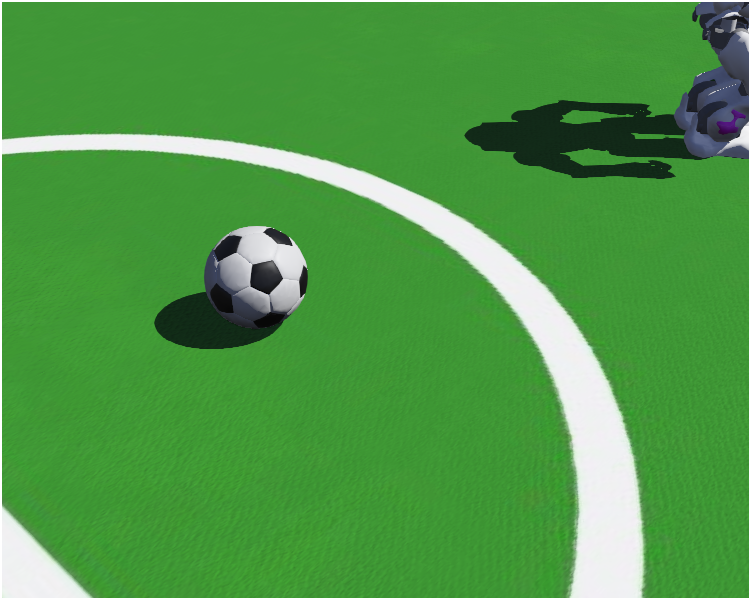Ball: (187, 201, 320, 380)
